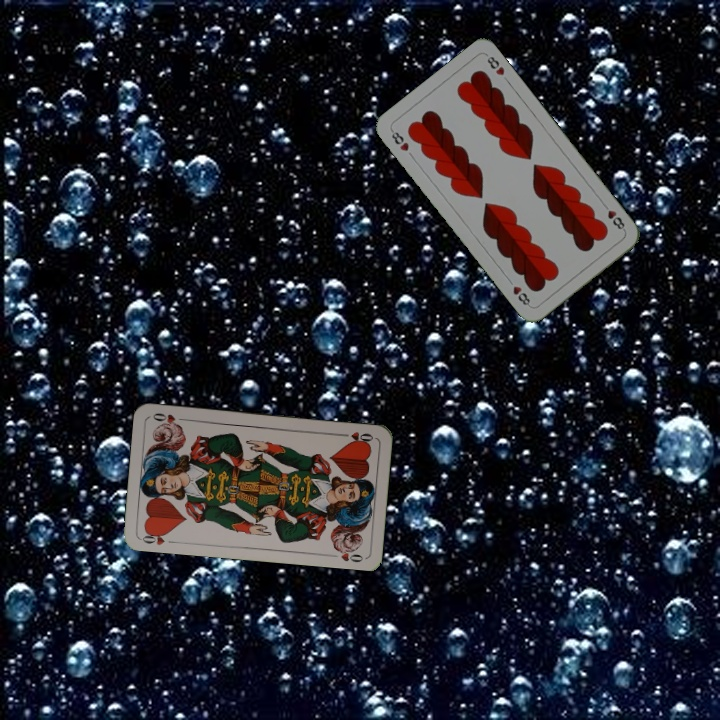H8: (598, 199, 628, 234), (387, 126, 411, 154)
HO: (336, 427, 376, 445), (138, 527, 171, 548)
